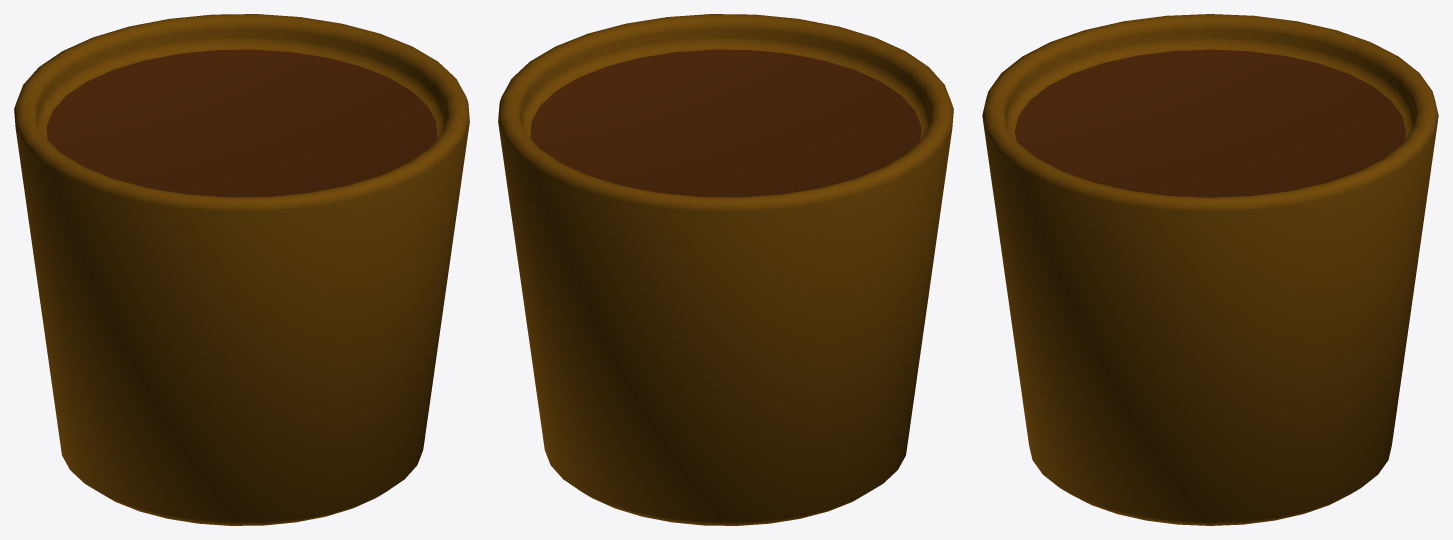
File: plantpot.glb
The picture shows the model from 3 angles, left to right: view 1: azimuth 30°, elevation 25°; view 2: azimuth 150°, elevation 25°; view 3: azimuth 270°, elevation 25°; orthographic projection.
Visible parts, largest first — view 1: Cylinder; view 2: Cylinder; view 3: Cylinder.
Boxes of the visible parts, box(x1,y1,x2,y2) form: Cylinder: box(14, 14, 469, 525); Cylinder: box(498, 14, 953, 525); Cylinder: box(982, 14, 1438, 525).
Bounding box in the file's own units: 0.2984 × 0.2508 × 0.2984.
